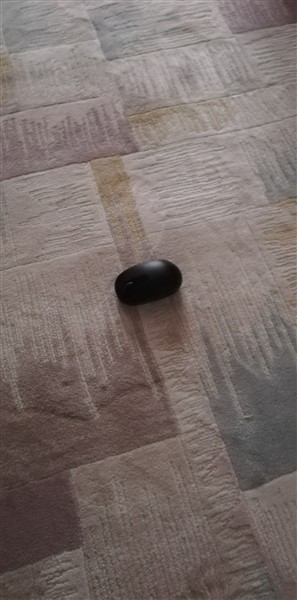mouse: (112, 254, 189, 309)
